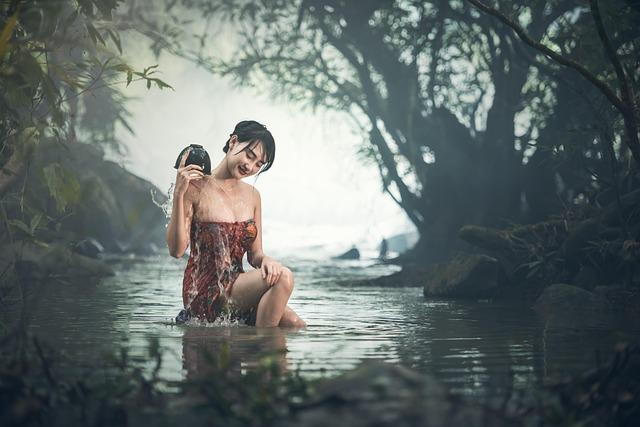Non_Gorille: (131, 28, 354, 363)
